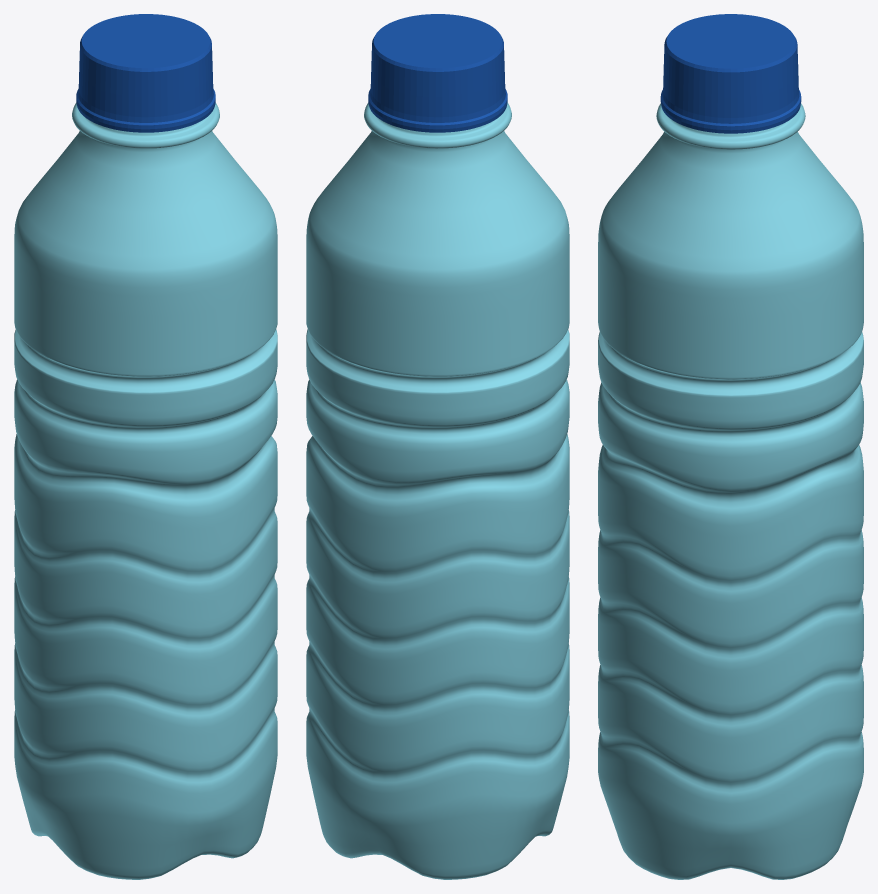
The model's file is Format1.fbx.
3 views of the same model, side by side, from view 1: azimuth 30°, elevation 25°; view 2: azimuth 150°, elevation 25°; view 3: azimuth 270°, elevation 25° (orthographic).
Parts seen in each view (by area): view 1: Cylinder, Cylinder.001; view 2: Cylinder, Cylinder.001; view 3: Cylinder, Cylinder.001.
Boxes of the visible parts, box(x1,y1,x2,y2) form: Cylinder: box(14, 102, 277, 879); Cylinder.001: box(76, 14, 215, 132); Cylinder: box(306, 102, 569, 879); Cylinder.001: box(368, 14, 507, 132); Cylinder: box(598, 103, 863, 879); Cylinder.001: box(660, 14, 801, 133).
Bounding box in the file's own units: 123 × 408 × 123.
